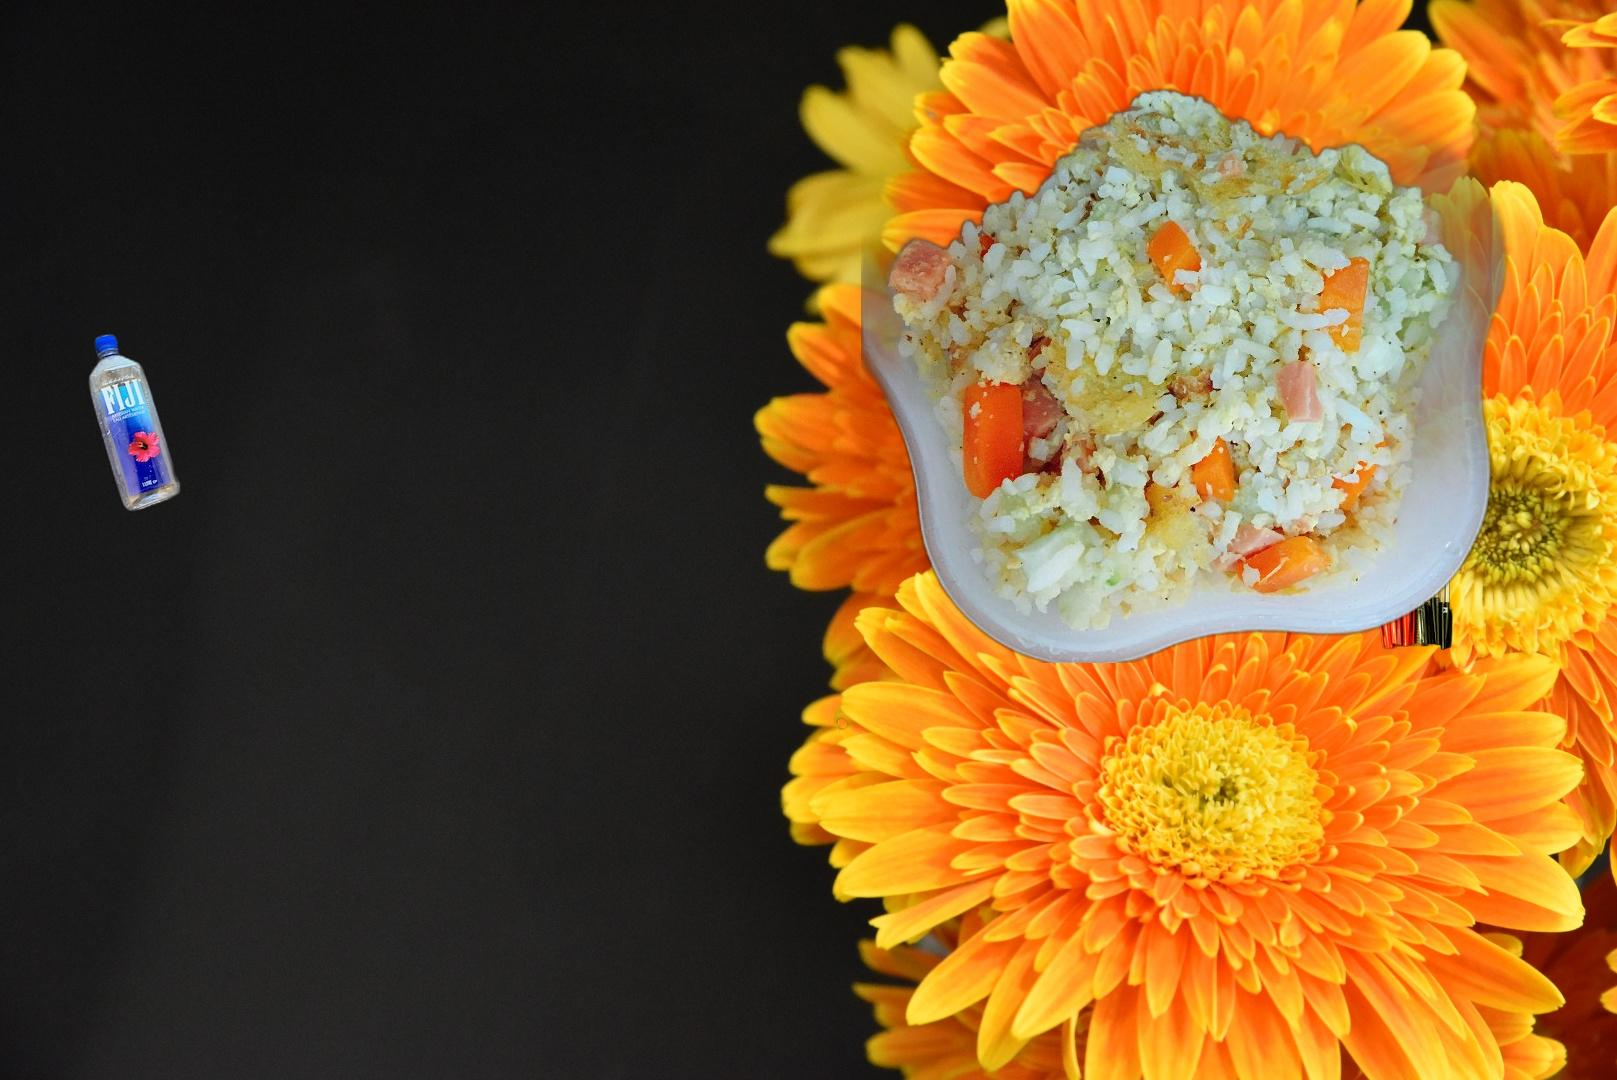biological: (862, 2, 1513, 663)
penholder: (1370, 506, 1487, 655), (1206, 306, 1251, 424)
plastic-bottles: (84, 328, 186, 518)
